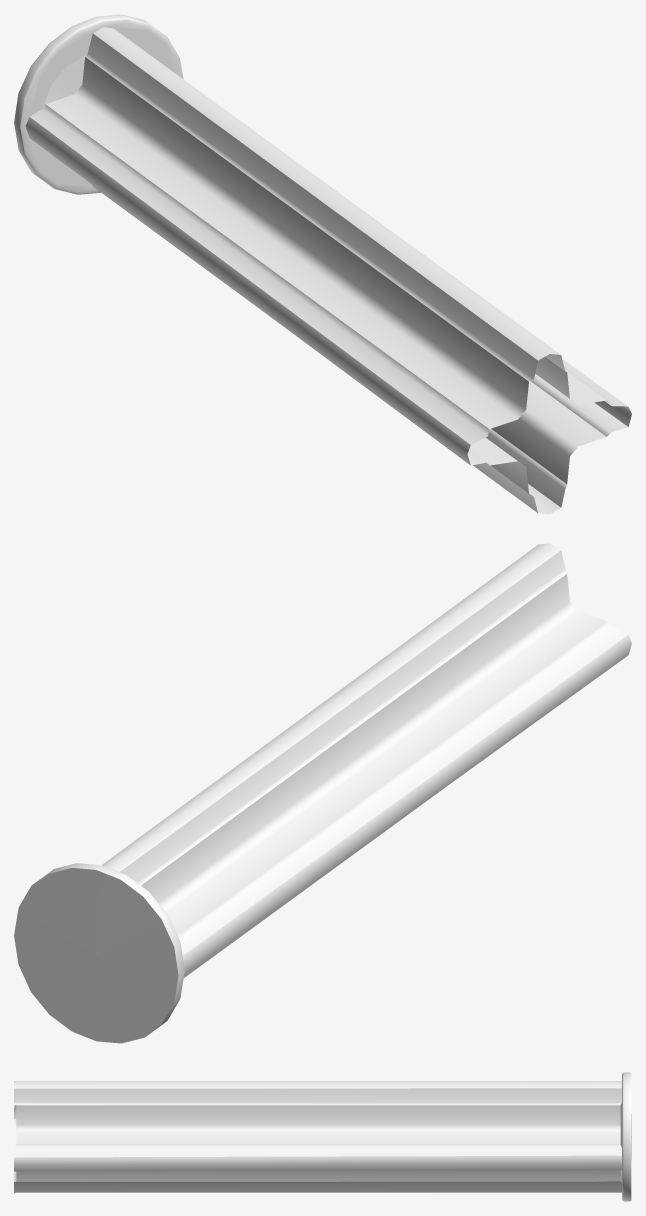
The model's file is 插管導管-針筒的推桿-改1.fbx.
3 renders of one model, top to bottom at view 1: azimuth 30°, elevation 25°; view 2: azimuth 150°, elevation 25°; view 3: azimuth 270°, elevation 25°, orthographic. The views are drawn at different scales.
Parts seen in each view (by area): view 1: syringe_v2; view 2: syringe_v2; view 3: syringe_v2.
Part boxes in pixels (left/top/right/bottom): syringe_v2: left=14, top=14, right=631, bottom=514; syringe_v2: left=14, top=543, right=631, bottom=1043; syringe_v2: left=14, top=1072, right=631, bottom=1201.
Size of the model in its own units: 1.6 by 1.6 by 7.57.
